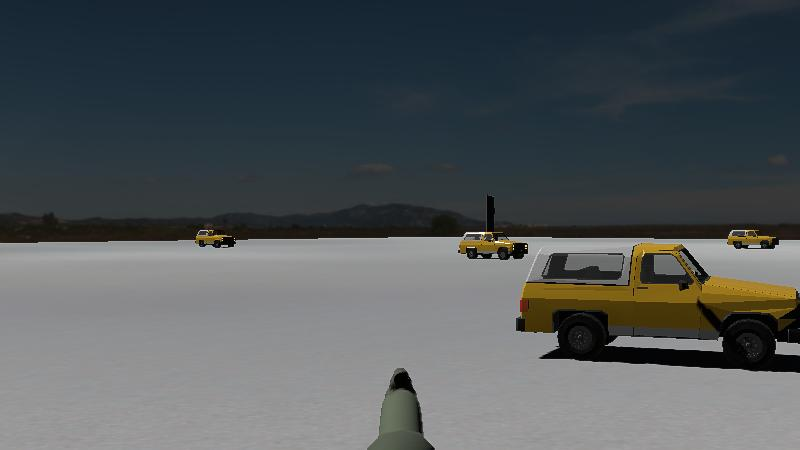car: (511, 233, 800, 373), (454, 228, 531, 263), (726, 227, 780, 251), (194, 228, 237, 249)
